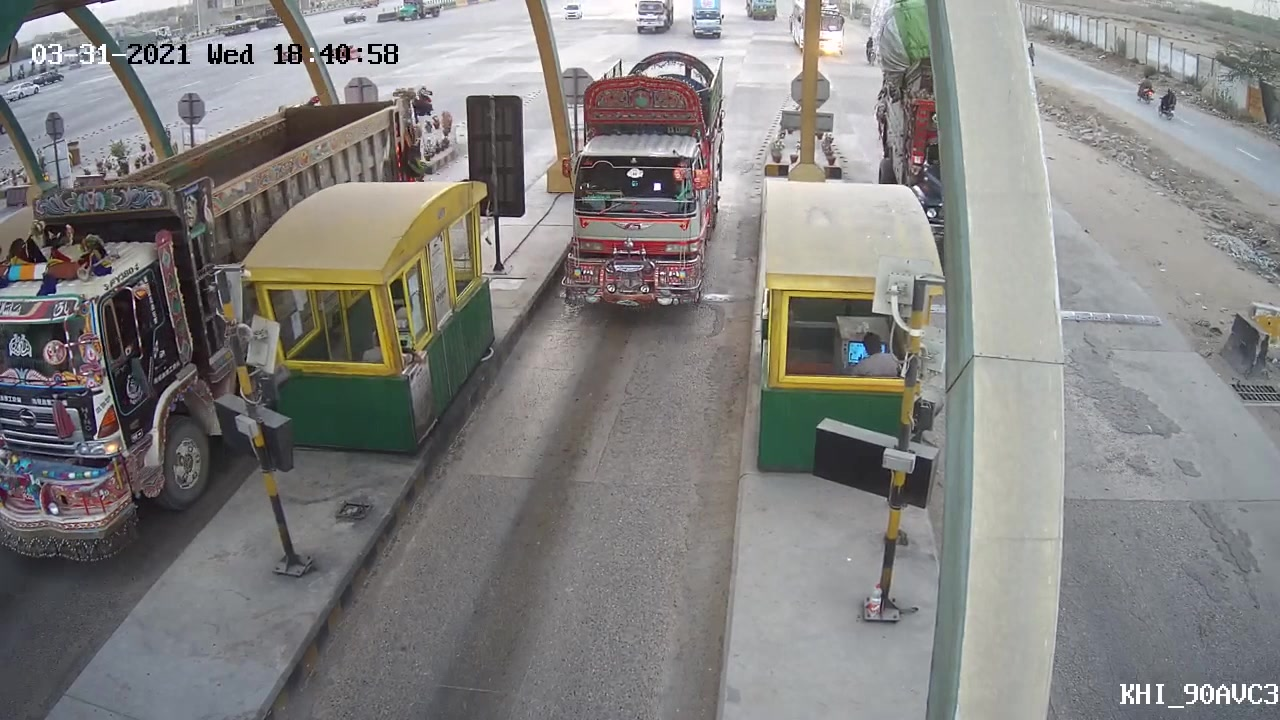F5: (542, 49, 740, 326)
